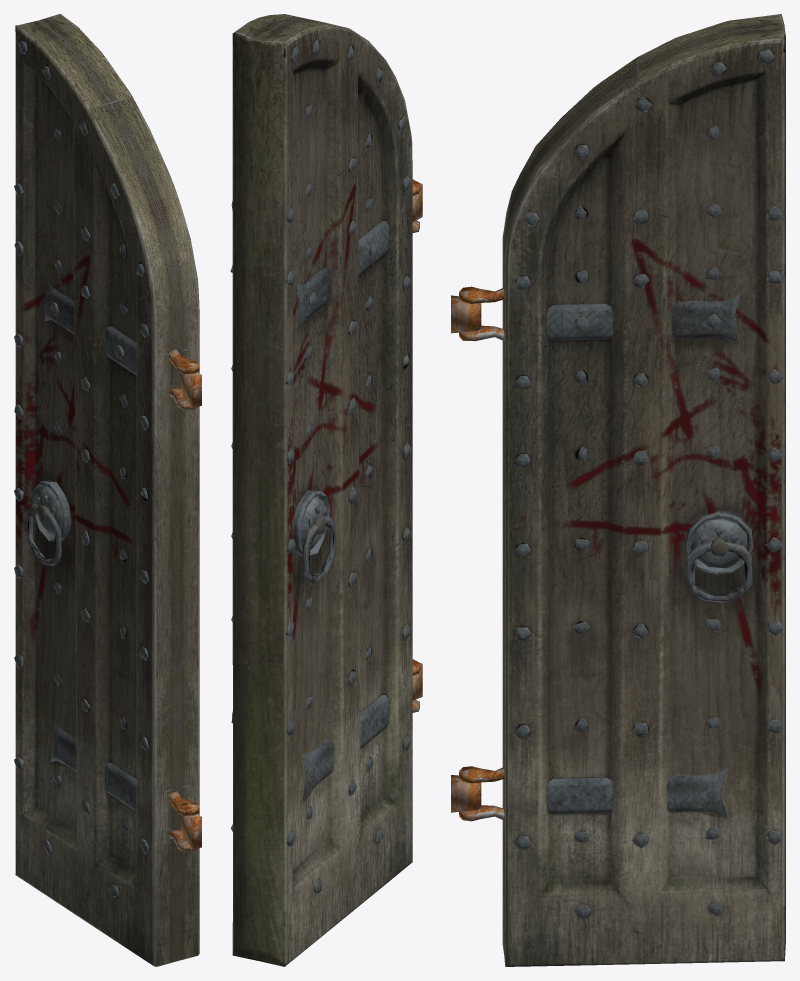
Rendered from SM_ChurchDoor02.fbx.
3 renders of one model, left to right at view 1: azimuth 30°, elevation 25°; view 2: azimuth 150°, elevation 25°; view 3: azimuth 270°, elevation 25°, orthographic. The views are drawn at different scales.
Parts seen in each view (by area): view 1: SM_ChurchDoor02_LOD0; view 2: SM_ChurchDoor02_LOD0; view 3: SM_ChurchDoor02_LOD0.
Part boxes in pixels (x1,y1,x2,y2): SM_ChurchDoor02_LOD0: (14, 14, 201, 966); SM_ChurchDoor02_LOD0: (230, 14, 422, 966); SM_ChurchDoor02_LOD0: (451, 14, 785, 966).
Size of the model in its own units: 25.31 by 103 by 314.
